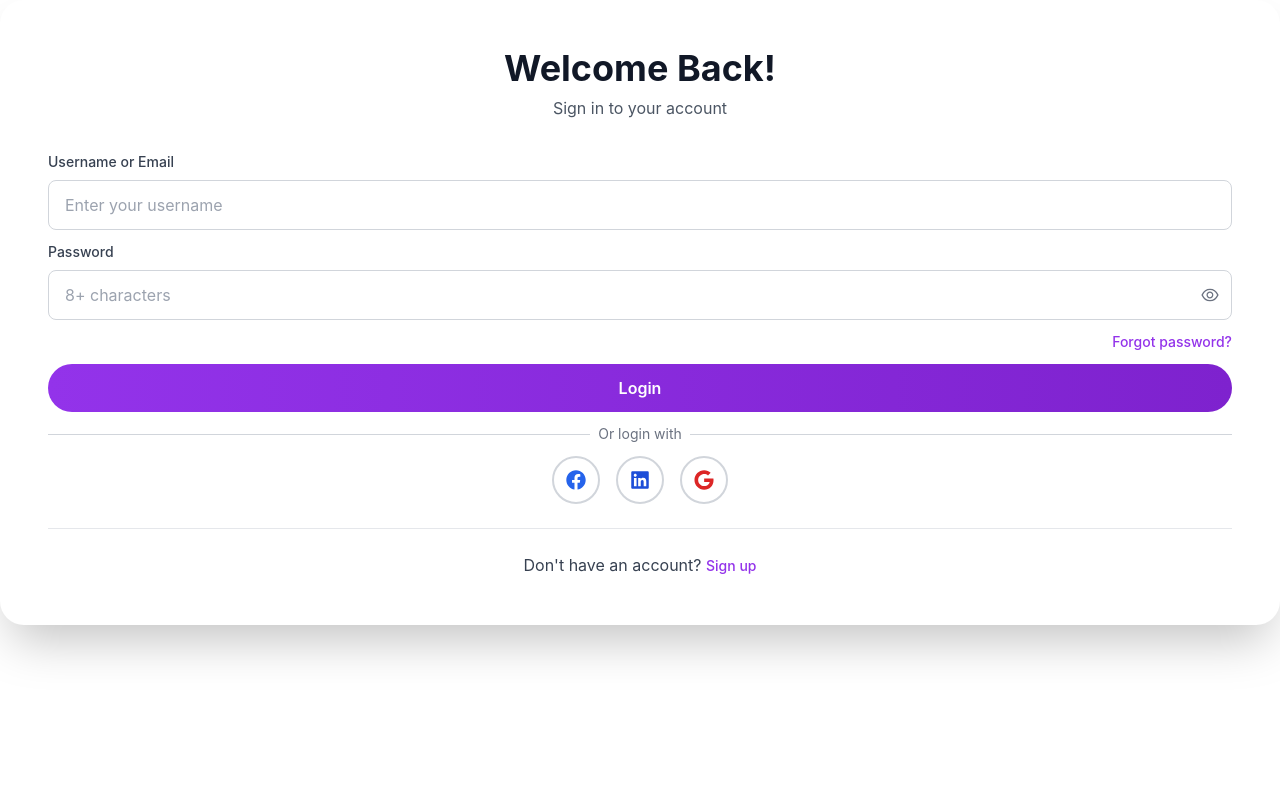
Test: Login Process Tests › disables login button while processing
Type "testuser" into the field with placeholder "Enter your username" at (640, 205), box [48,180,1232,230]
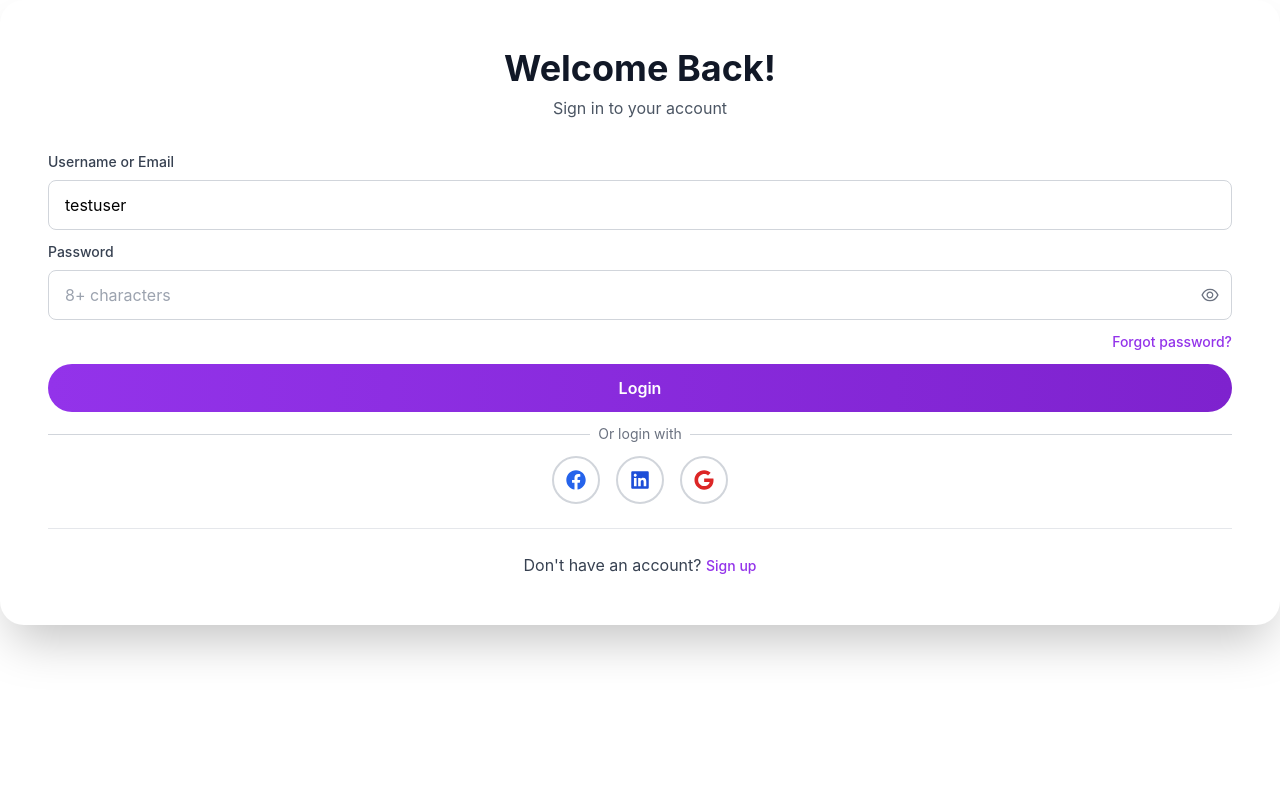
Type "testpassword123" into the password field with placeholder "8+ characters" at (640, 295), box [48,270,1232,320]
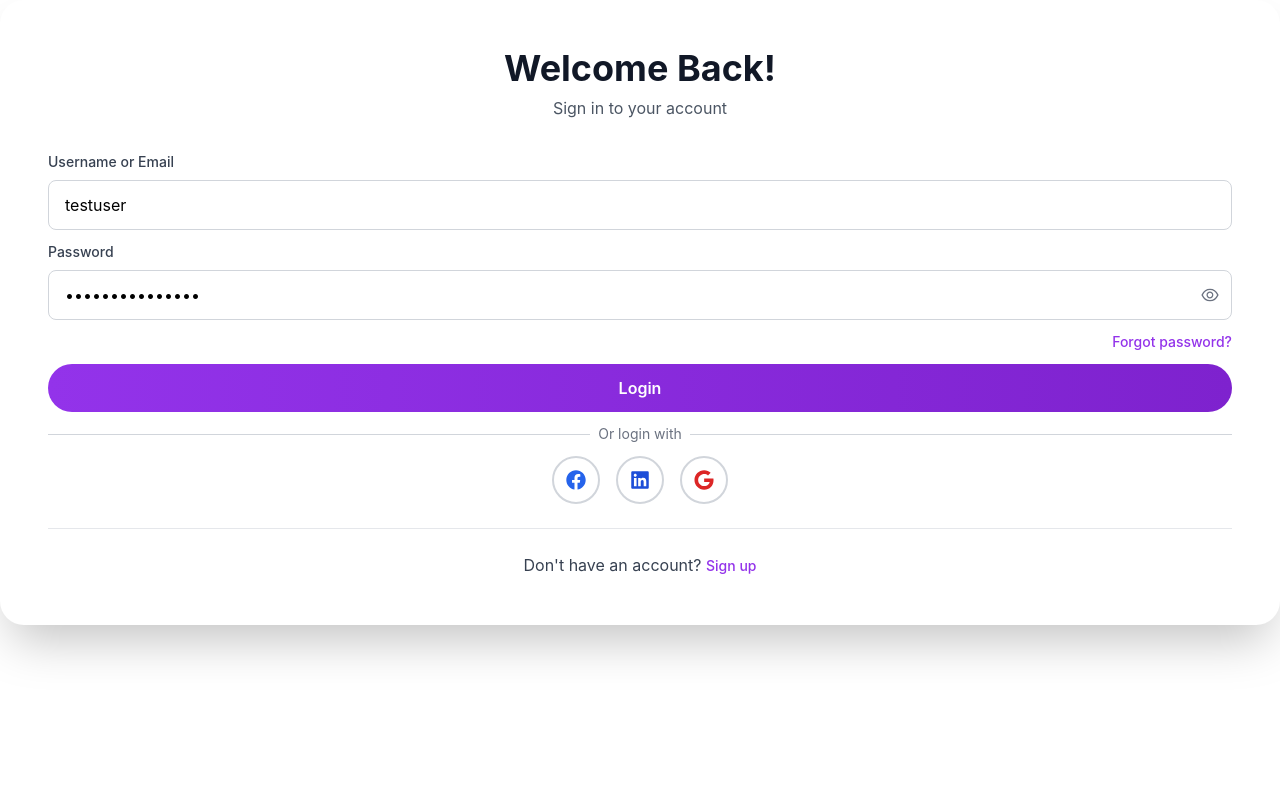
Click the button "Login" at (640, 388), box [48,364,1232,412]
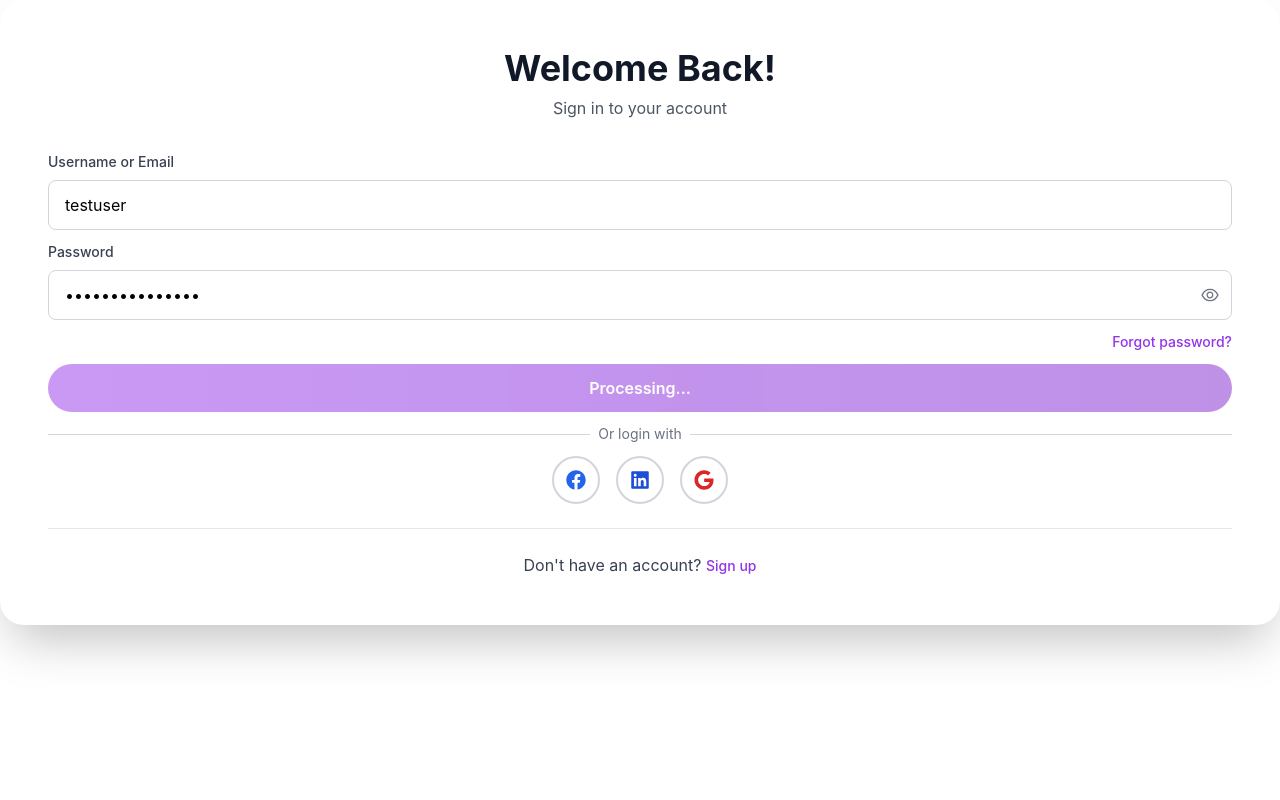
Expected: the button "Processing..." is disabled, [48,364,1232,412]
